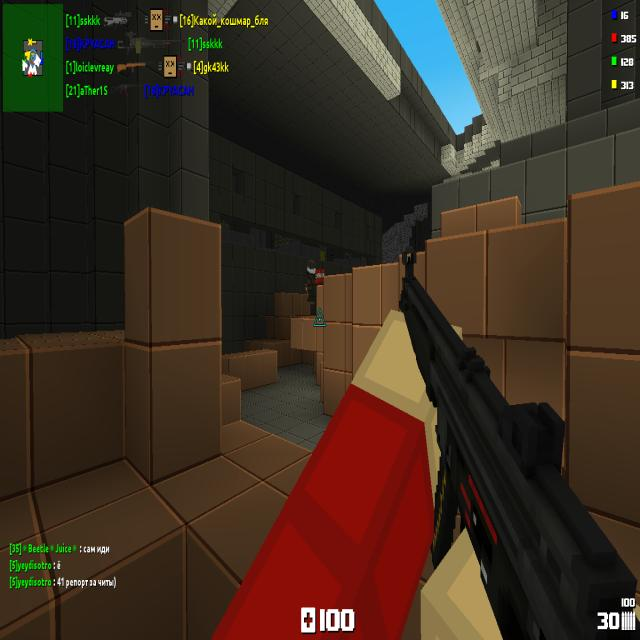enemy: (306, 259, 317, 304)
